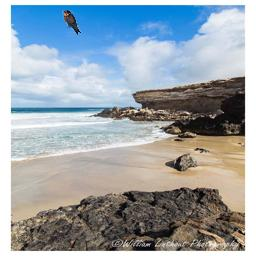Swallow: (62, 10, 81, 35)
